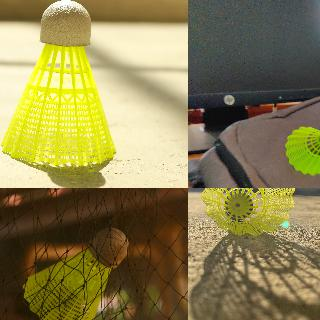shuttlecock: (1, 0, 116, 165), (22, 228, 128, 319), (201, 188, 295, 236), (286, 126, 319, 175)
